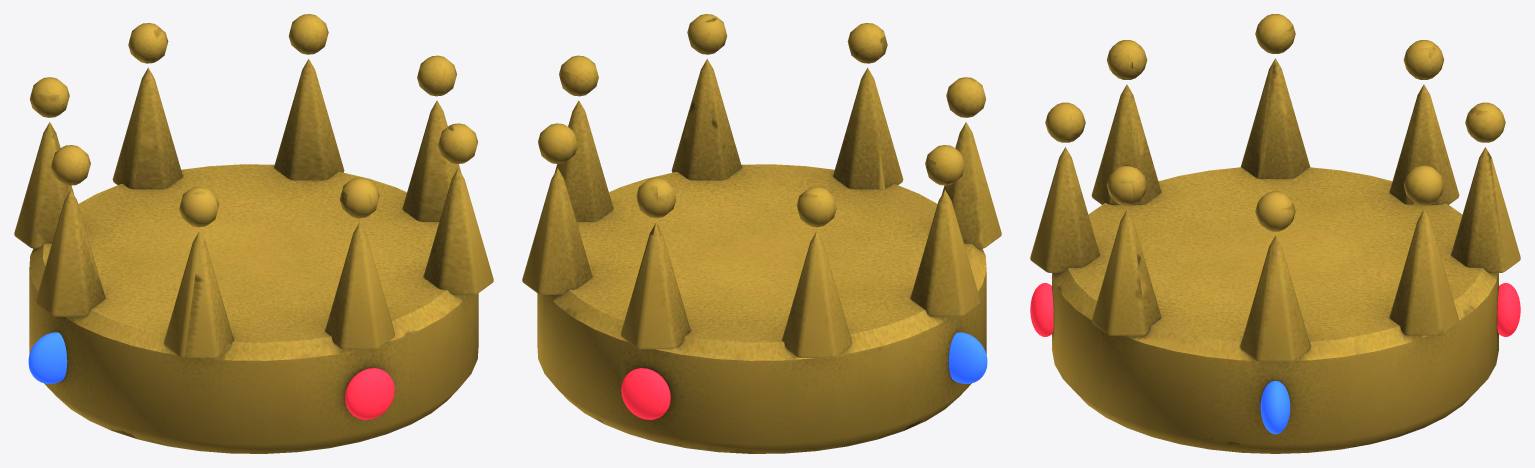
The picture shows the model from 3 angles, left to right: view 1: azimuth 30°, elevation 25°; view 2: azimuth 150°, elevation 25°; view 3: azimuth 270°, elevation 25°; orthographic projection.
Parts seen in each view (by area): view 1: Crown_gold, glow_Crown_ruby, glow_Crown_sapphire; view 2: Crown_gold, glow_Crown_ruby, glow_Crown_sapphire; view 3: Crown_gold, glow_Crown_ruby, glow_Crown_sapphire.
Boxes of the visible parts, x1,y1,x2,y2 form: Crown_gold: (14,14,493,453); glow_Crown_ruby: (345,368,394,419); glow_Crown_sapphire: (28,332,67,383); Crown_gold: (522,14,1001,453); glow_Crown_ruby: (621,368,670,419); glow_Crown_sapphire: (948,332,987,383); Crown_gold: (1030,14,1520,453); glow_Crown_ruby: (1030,283,1520,336); glow_Crown_sapphire: (1260,380,1290,434).
Size of the model in its own units: 1.52 by 0.85 by 1.45.
Materials: 3 (1 with a texture image).
